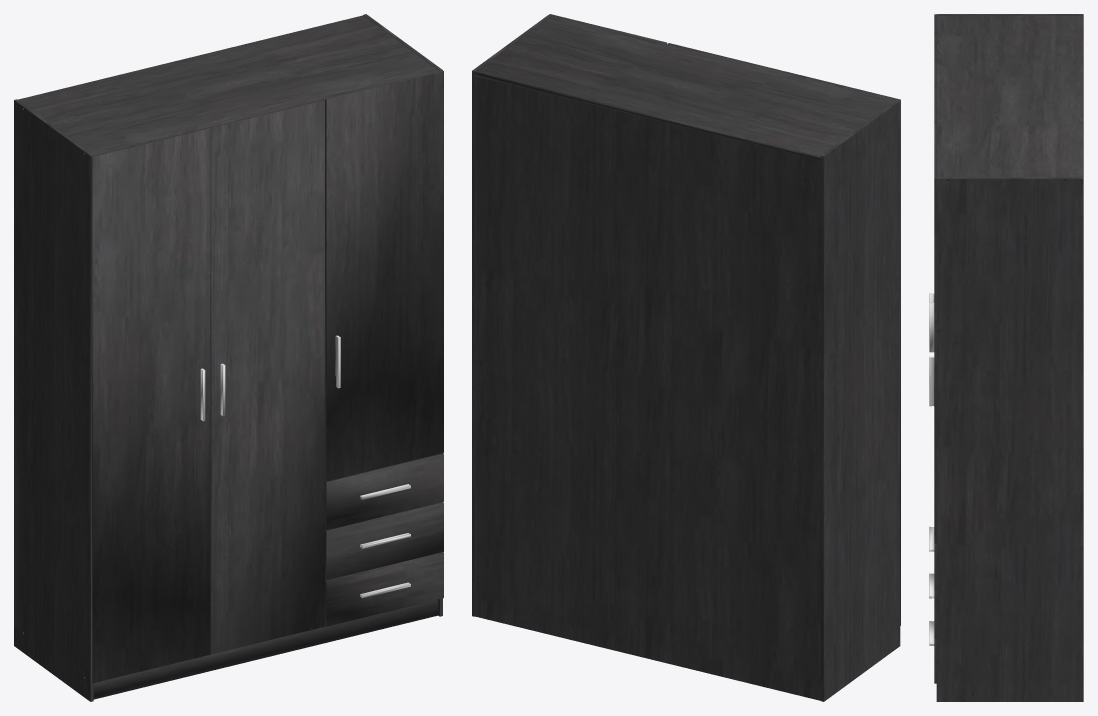
Rendered from B07GFS1R5B.glb.
3 renders of one model, left to right at view 1: azimuth 30°, elevation 25°; view 2: azimuth 150°, elevation 25°; view 3: azimuth 270°, elevation 25°, orthographic. The views are drawn at different scales.
Parts seen in each view (by area): view 1: B07GFS1R5B; view 2: B07GFS1R5B; view 3: B07GFS1R5B.
Boxes of the visible parts, <box> form: B07GFS1R5B: <box>14,14,443,701</box>; B07GFS1R5B: <box>472,14,900,701</box>; B07GFS1R5B: <box>929,14,1083,701</box>.
Size of the model in its own units: 1.29 by 1.91 by 0.5097.
Materials: 1 (1 with a texture image).
